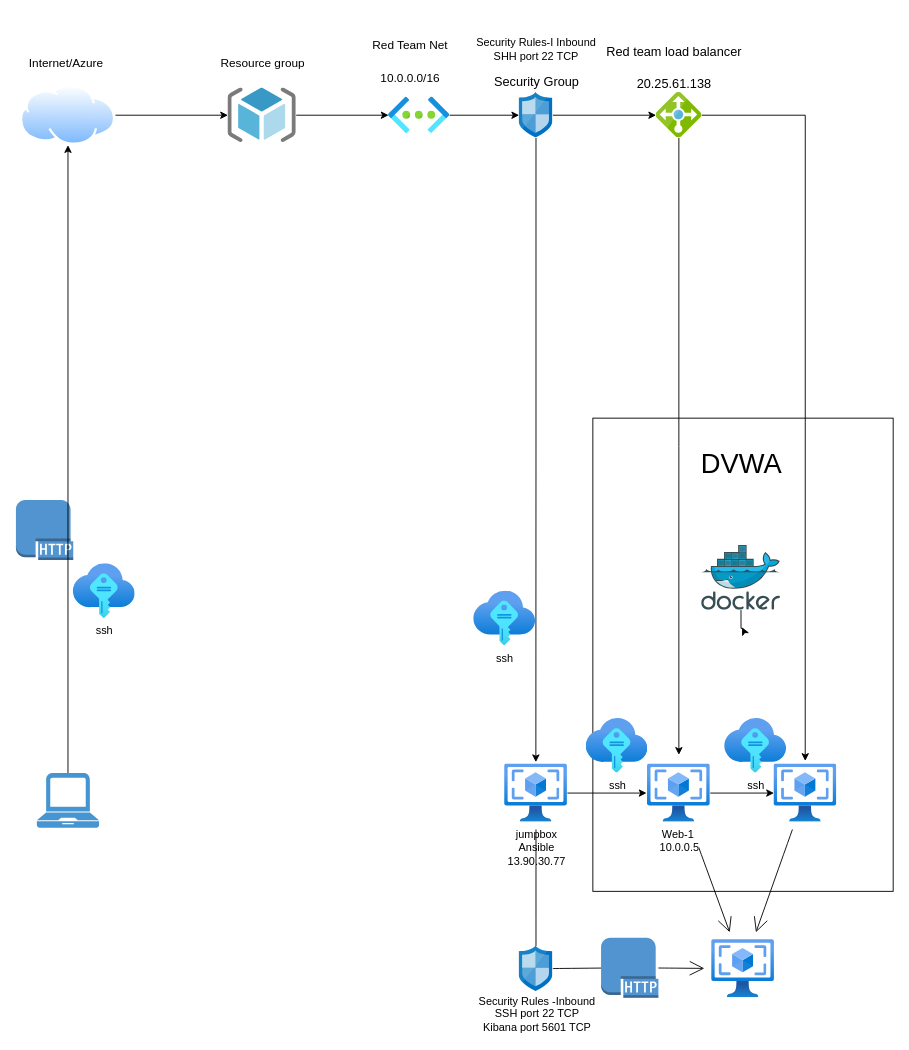
Image size: 909x1050. Some labels were removed from this diagram. Here are the shapes that lost their labels. From the top down, the centre of each, then its label:
[67,800]: Local Host 98.45.145.6
[805,792]: Web 2 10.0.0.6
[742,968]: ELK 10.1.0.4
